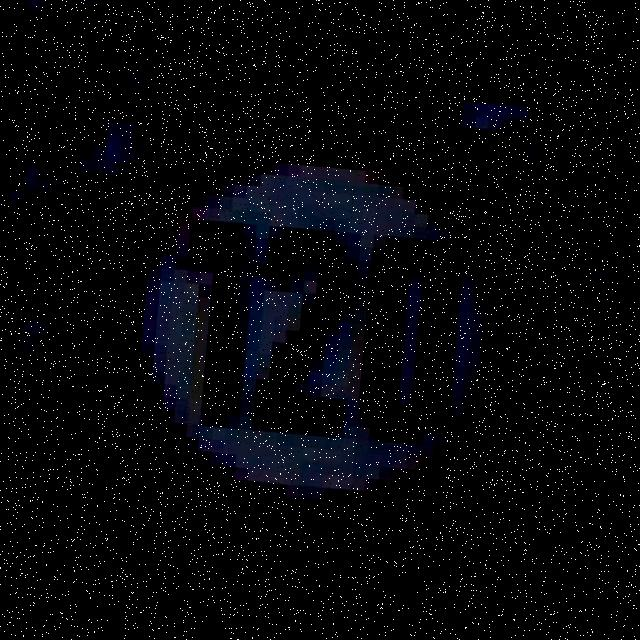Ograniczenie predkosci do 120: (77, 86, 564, 574)
